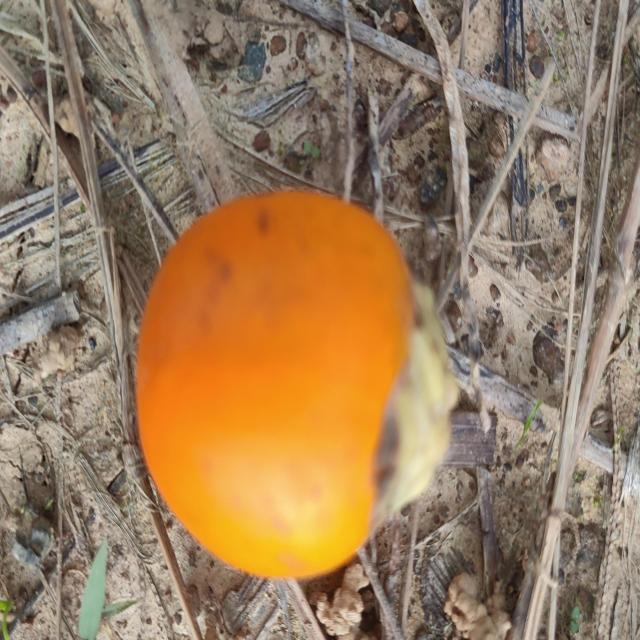good: (134, 190, 459, 582)
